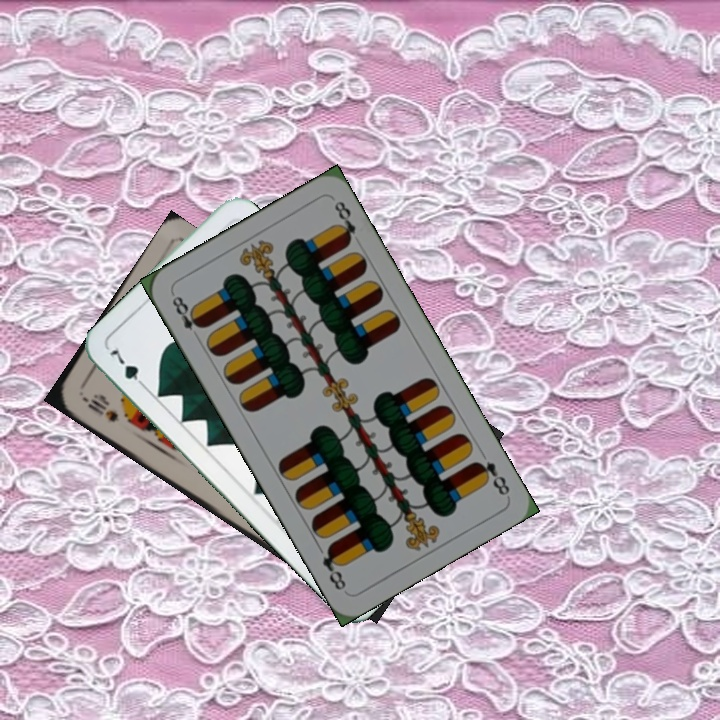E8: (168, 289, 207, 344), (470, 457, 513, 499)
G7: (106, 343, 150, 393)
S10: (78, 392, 121, 425)
